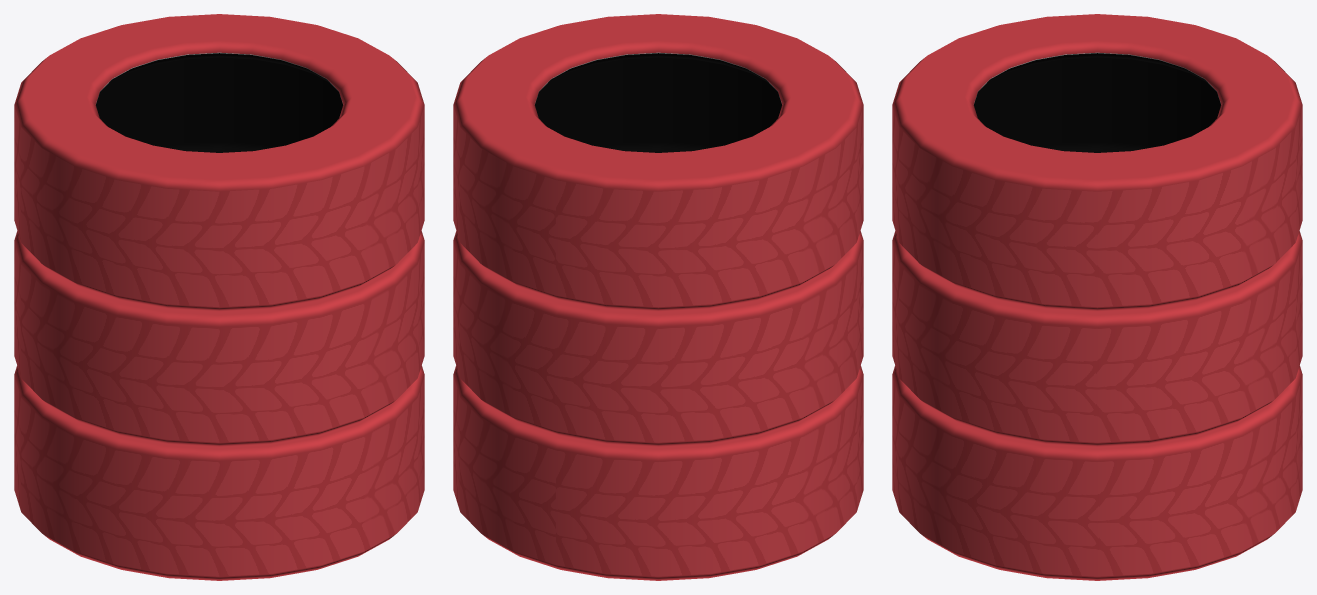
Rendered from Tire-barrier_Red.fbx.
3 renders of one model, left to right at view 1: azimuth 30°, elevation 25°; view 2: azimuth 150°, elevation 25°; view 3: azimuth 270°, elevation 25°, orthographic.
Visible parts, largest first — view 1: Tire-barrier_Red; view 2: Tire-barrier_Red; view 3: Tire-barrier_Red.
Boxes of the visible parts, x1=… form: Tire-barrier_Red: x1=14, y1=14, x2=424, y2=580; Tire-barrier_Red: x1=453, y1=14, x2=863, y2=580; Tire-barrier_Red: x1=892, y1=14, x2=1302, y2=580.
Bounding box in the file's own units: 91.6 × 98.8 × 91.6.
